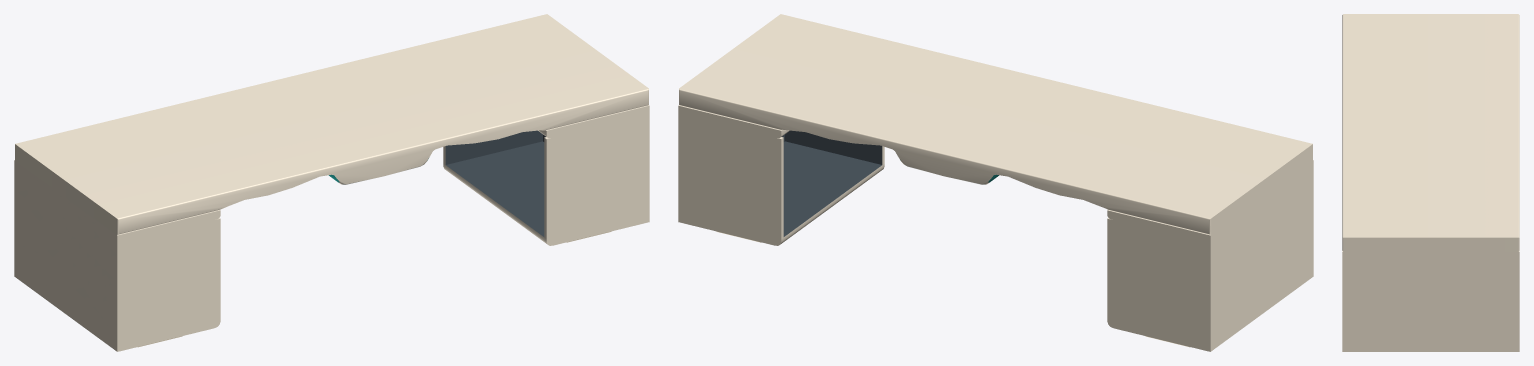
Rendered from Techo.fbx.
3 renders of one model, left to right at view 1: azimuth 30°, elevation 25°; view 2: azimuth 150°, elevation 25°; view 3: azimuth 270°, elevation 25°, orthographic. The views are drawn at different scales.
Visible parts, largest first — view 1: Techo; view 2: Techo; view 3: Techo.
Part boxes in pixels (x1,y1,x2,y2): Techo: [14, 14, 649, 351]; Techo: [678, 14, 1313, 351]; Techo: [1342, 14, 1519, 351].
Bounding box in the file's own units: 13.4 × 3.5 × 4.5.
1 material, 1 textured.
